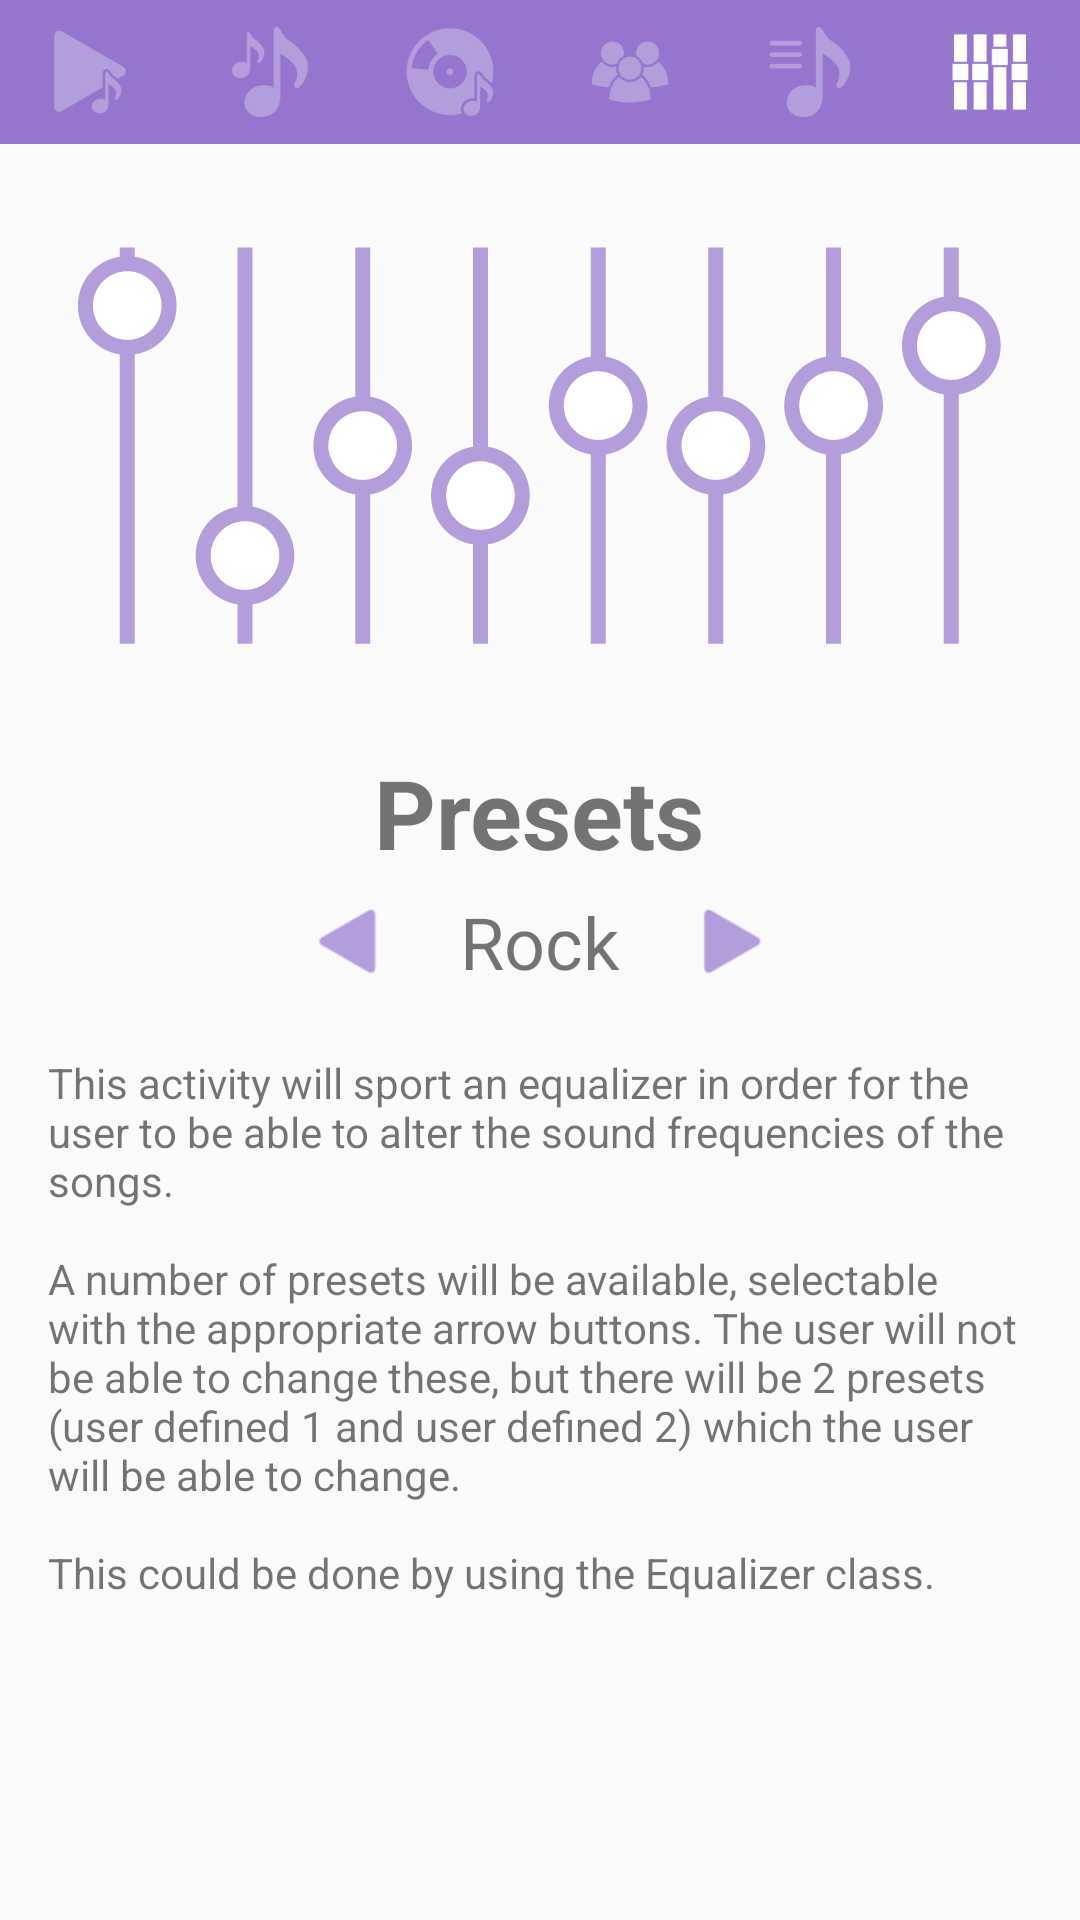

Screen size 1080 × 1920. Icon name, then its center in pixels as (x,y):
artist: (630,72)
next preset: (732,941)
nowplaying: (90,72)
previous preset: (347,941)
